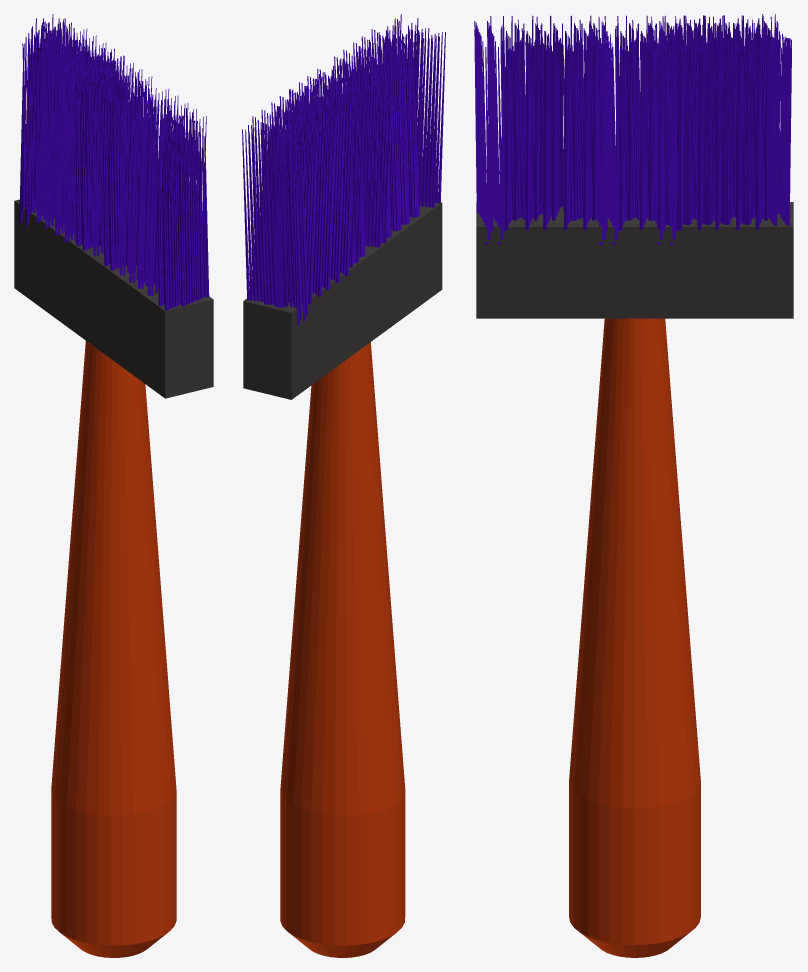
File: Kwastpaars.obj
3 renders of one model, left to right at view 1: azimuth 30°, elevation 25°; view 2: azimuth 150°, elevation 25°; view 3: azimuth 270°, elevation 25°, orthographic. The views are drawn at different scales.
Parts seen in each view (by area): view 1: Cylinder, Cube.001_Cube, Cube_Cube.001; view 2: Cylinder, Cube.001_Cube, Cube_Cube.001; view 3: Cylinder, Cube.001_Cube, Cube_Cube.001.
Part boxes in pixels (left/top/right/bottom): Cylinder: left=51, top=341, right=176, bottom=957; Cube.001_Cube: left=19, top=14, right=209, bottom=310; Cube_Cube.001: left=14, top=199, right=213, bottom=398; Cylinder: left=280, top=342, right=405, bottom=957; Cube.001_Cube: left=242, top=14, right=445, bottom=325; Cube_Cube.001: left=243, top=202, right=442, bottom=399; Cylinder: left=569, top=318, right=700, bottom=957; Cube.001_Cube: left=474, top=14, right=791, bottom=244; Cube_Cube.001: left=476, top=202, right=793, bottom=318.
Bounding box in the file's own units: 2 × 15.44 × 4.84.
